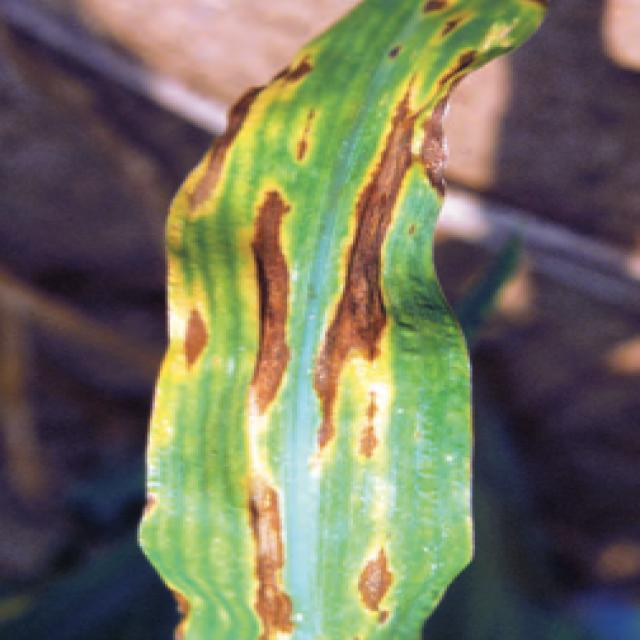blight: (197, 179, 428, 469)
